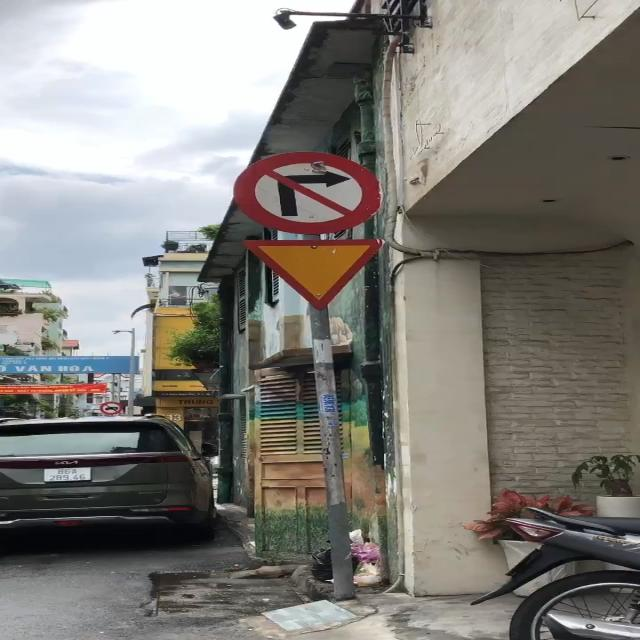Bien bao cam re phai: (228, 144, 399, 238)
Bien bao giao nhau voi duong uu tien: (234, 235, 400, 314)
